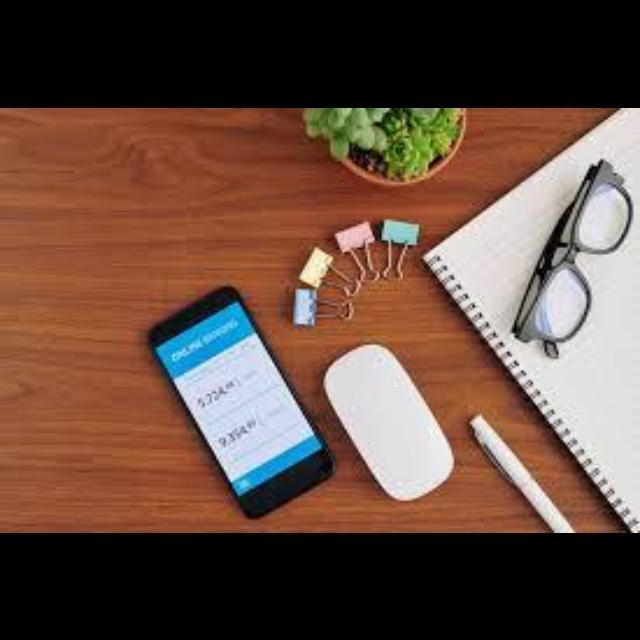phone: (153, 284, 321, 512)
